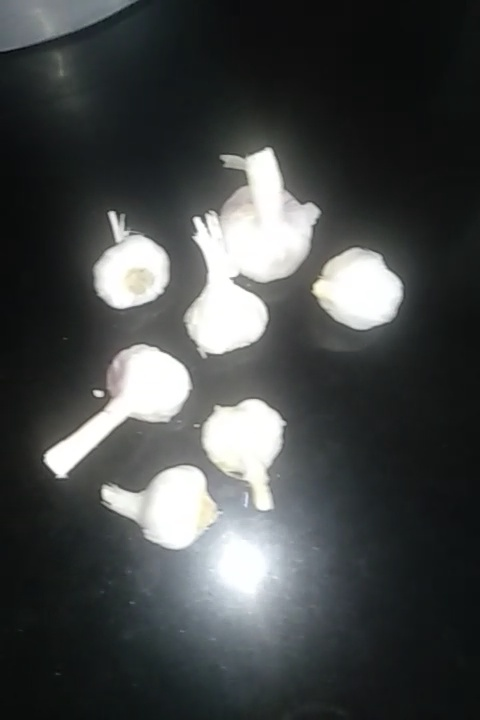garlic: (53, 350, 188, 470), (211, 155, 316, 281), (179, 233, 262, 358), (204, 398, 286, 511), (95, 475, 222, 543), (85, 212, 169, 314), (311, 250, 401, 341)
